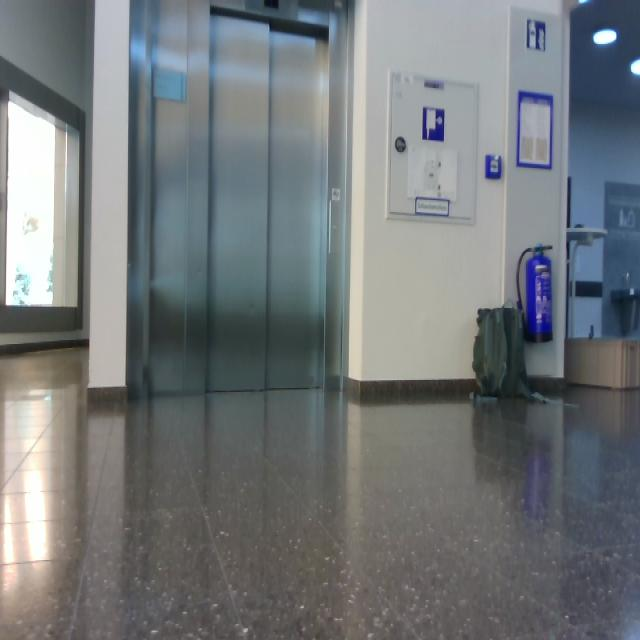door: (127, 1, 351, 398)
fire extinguisher: (517, 244, 554, 344)
light bulb: (593, 28, 617, 45), (23, 214, 40, 236), (630, 57, 640, 76), (578, 1, 592, 5)
tiled floor: (2, 347, 639, 639)
window: (3, 88, 82, 317)
